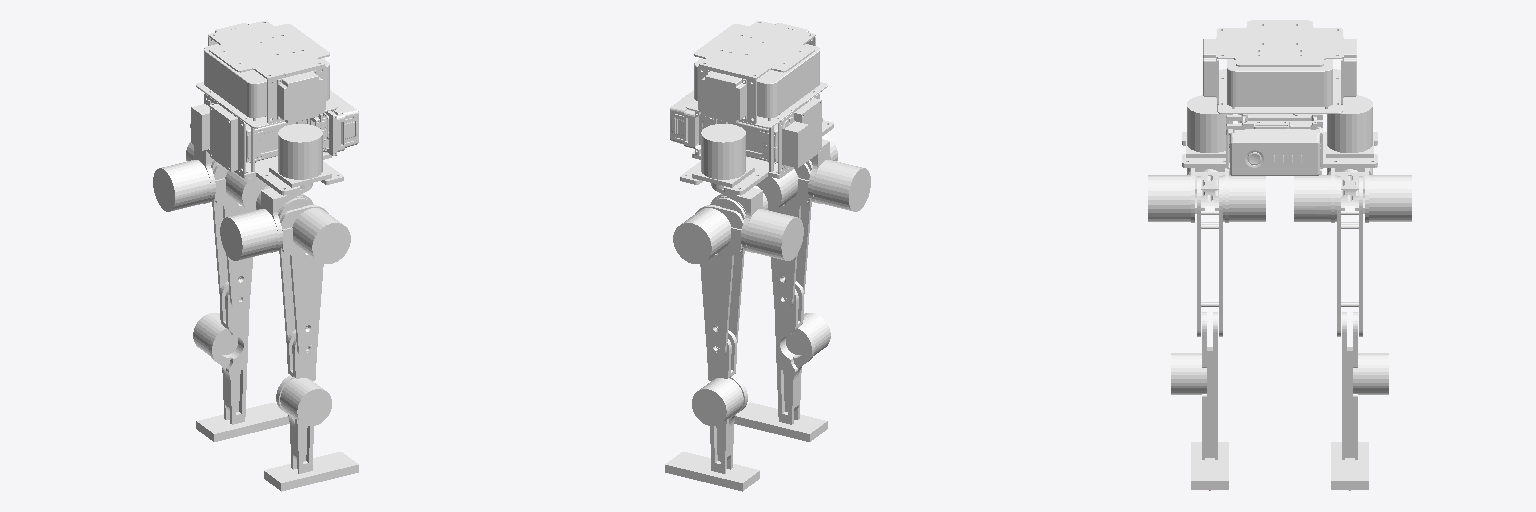
--- Facts derived from the render (not from the file) ---
The picture shows the robot from 3 angles, left to right: view 1: azimuth 30°, elevation 25°; view 2: azimuth 150°, elevation 25°; view 3: azimuth 270°, elevation 25°; orthographic projection.
Robot: pai_10dof_v3_0311 — 16 links, 15 joints (10 revolute, 5 fixed); root link base_link; default pose: every joint at zero.
Links seen in each view (by area): view 1: base_link, leg_l4_link, leg_r4_link, leg_r3_link, leg_r2_link, leg_l3_link, leg_r1_link, leg_l2_link, leg_r5_link, leg_l5_link, leg_l1_link; view 2: base_link, leg_r4_link, leg_l4_link, leg_l3_link, leg_l2_link, leg_r3_link, leg_l1_link, leg_r2_link, leg_l5_link, leg_r5_link, leg_r1_link; view 3: base_link, leg_l4_link, leg_r4_link, leg_l3_link, leg_r3_link, leg_l1_link, leg_r1_link, leg_l5_link, leg_r5_link.
Boxes of the visible links, x1,y1,x2,y2 form: base_link: (190, 21, 358, 195); leg_l4_link: (193, 281, 249, 424); leg_r4_link: (276, 330, 331, 473); leg_r3_link: (256, 186, 323, 357); leg_r2_link: (220, 183, 312, 260); leg_l3_link: (211, 160, 267, 308); leg_r1_link: (279, 194, 350, 263); leg_l2_link: (153, 145, 215, 211); leg_r5_link: (264, 452, 358, 491); leg_l5_link: (196, 402, 289, 441); leg_l1_link: (186, 142, 236, 205); base_link: (670, 21, 833, 195); leg_r4_link: (774, 281, 830, 424); leg_l4_link: (692, 330, 747, 473); leg_l3_link: (700, 186, 767, 357); leg_l2_link: (711, 183, 803, 260); leg_r3_link: (756, 160, 812, 308); leg_l1_link: (673, 194, 744, 263); leg_r2_link: (808, 139, 870, 211); leg_l5_link: (665, 452, 759, 491); leg_r5_link: (734, 402, 827, 441); leg_r1_link: (787, 134, 837, 205); base_link: (1182, 20, 1377, 175); leg_l4_link: (1342, 312, 1388, 459); leg_r4_link: (1171, 312, 1217, 459); leg_l3_link: (1294, 175, 1362, 336); leg_r3_link: (1197, 175, 1265, 336); leg_l1_link: (1331, 168, 1411, 222); leg_r1_link: (1148, 168, 1228, 222); leg_l5_link: (1331, 442, 1368, 489); leg_r5_link: (1191, 442, 1228, 489).
Size in the robot's own frame: 0.1781 by 0.2822 by 0.5012 metres.
Meshes: 9 distinct files referenced, 9 mesh visuals loaded (9 binary STL).

robot.urdf — pai_10dof_v3_0311:
<?xml version="1.0" encoding="utf-8"?>
<!--
This URDF was automatically created by SolidWorks to URDF Exporter! Originally created by Stephen Brawner ([email redacted])
Commit Version: 1.6.0-4-g7f85cfe  Build Version: 1.6.7995.38578
For more information, please see http://wiki.ros.org/sw_urdf_exporter
-->
<robot name="pai_10dof_v3_0311">
<mujoco>
  <compiler 
    meshdir="package://legged_hunter_description/meshes/" 
    balanceinertia="true" 
    discardvisual="false" />
</mujoco>

  <gazebo>
    <plugin name="gazebo_ros_control" filename="libhunter_bipedal_hw_sim.so">
      <robotNamespace>/</robotNamespace>
      <robotParam>legged_robot_description</robotParam>
      <robotSimType>legged_gazebo/LeggedHWSim</robotSimType>
    </plugin>
  </gazebo>

  <gazebo>
    <plugin filename="libgazebo_ros_p3d.so" name="p3d_base_controller">
      <alwaysOn>true</alwaysOn>
      <updateRate>500.0</updateRate>
      <bodyName>base_link</bodyName>
      <topicName>ground_truth/state</topicName>
      <gaussianNoise>0</gaussianNoise>
      <frameName>world</frameName>
      <xyzOffsets>0 0 0</xyzOffsets>
      <rpyOffsets>0 0 0</rpyOffsets>
    </plugin>
  </gazebo>

	<link name="base_link">
		<inertial>
			<origin xyz="0.0083901 -0.0011217 0.0571961" rpy="0 0 0" />
			<mass value="1.6042619" />
			<inertia ixx="0.0044403" ixy="0.0001368" ixz="0.0002994" iyy="0.0044715" iyz="-3.65E-05" izz="0.0042503" />
		</inertial>
		<visual>
			<origin xyz="0 0 0" rpy="0 0 0" />
			<geometry>
				<mesh filename="package://legged_hunter_description/meshes/base_link.STL" />
			</geometry>
			<material name="">
				<color rgba="1 1 1 1" />
			</material>
		</visual>
		<collision>
			<!-- <origin xyz="0 0 0" rpy="0 0 0" />
			<geometry>
				<mesh filename="package://legged_hunter_description/meshes/base_link.STL" />
			</geometry> -->
			<origin rpy="0 0 0" xyz="0 0 0.045" />
			<geometry>
				<box size="0.1 0.1 0.09" />
			</geometry>
		</collision>
	</link>
	
	<!-- Imu is fixed to the base link -->
    <joint name="imu_joint" type="fixed">
      <origin rpy="0. 0. 0." xyz="0. 0. 0"/>
      <parent link="base_link"/>
      <child link="imu_link"/>
    </joint>
    <!-- Imu link -->
    <link name="imu_link">
      <inertial>
        <mass value="0.01"/>
        <origin rpy="0 0 0" xyz="0 0 0"/>
        <inertia ixx="0.000001" ixy="0" ixz="0" iyy="0.000001" iyz="0" izz="0.000001"/>
      </inertial>
      <visual>
        <origin rpy="0 0 0" xyz="0 0 0"/>
        <geometry>
          <box size="0.015 0.015 0.004"/>
        </geometry>
      </visual>
      <material name="orange">
        <color rgba="255 108 10 255"/>
      </material>
    </link>
    <gazebo reference="imu_joint">
      <disableFixedJointLumping>true</disableFixedJointLumping>
    </gazebo>

  <!-- ************************************************************ -->
  <!-- ************************ Left Leg ************************** -->
  <!-- ************************************************************ -->

  <!-- ************* part 2 *************** -->
	<joint name="leg_l2_joint" type="revolute">
		<origin xyz="0 0.075 0" rpy="0 0 0" />
		<parent link="base_link" />
		<child link="leg_l2_link" />
		<axis xyz="0 0 1" />
		<limit lower="-3.14" upper="3.14" effort="21" velocity="21" />
	</joint>
	<link name="leg_l2_link">
		<inertial>
			<origin xyz="-0.0222049 0 -0.0213255" rpy="0 0 0" />
			<mass value="0.34" />
			<inertia ixx="4.37E-05" ixy="0" ixz="-2.14E-05" iyy="5.97E-05" iyz="0" izz="3.12E-05" />
		</inertial>
		<visual>
			<origin xyz="0 0 0" rpy="0 0 0" />
			<geometry>
				<mesh filename="package://legged_hunter_description/meshes/l_hip_yaw_link.STL" />
			</geometry>
			<material name="">
				<color rgba="1 1 1 1" />
			</material>
		</visual>
		<collision>
			<!-- <origin xyz="0 0 0" rpy="0 0 0" />
			<geometry>
				<mesh filename="package://legged_hunter_description/meshes/l_hip_yaw_link.STL" />
			</geometry> -->
			<origin xyz="0 0 0" rpy="0 0 0" />
			<geometry>
				<box size="0.0001 0.0001 0.0001" />
			</geometry>
		</collision>
	</link>



	<!-- ************* part 1 *************** -->
	<joint name="leg_l1_joint" type="revolute">
		<origin xyz="-0.037 0 -0.054" rpy="0 0 0" />
		<parent link="leg_l2_link" />
		<child link="leg_l1_link" />
		<axis xyz="1 0 0" />
		<limit lower="-3.14" upper="3.14" effort="21" velocity="21" />
	</joint>
	<link name="leg_l1_link">
		<inertial>
			<origin xyz="0.018445 0 -0.0030972" rpy="0 0 0" />
			<mass value="0.367" />
			<inertia ixx="4.04E-05" ixy="0" ixz="-1.5E-06" iyy="4.96E-05" iyz="0" izz="5.32E-05" />
		</inertial>
		<visual>
			<origin xyz="0 0 0" rpy="0 0 0" />
			<geometry>
				<mesh filename="package://legged_hunter_description/meshes/l_hip_roll_link.STL" />
			</geometry>
			<material name="">
				<color rgba="1 1 1 1" />
			</material>
		</visual>
		<collision>
			<!-- <origin xyz="0 0 0" rpy="0 0 0" />
			<geometry>
				<mesh filename="package://legged_hunter_description/meshes/l_hip_roll_link.STL" />
			</geometry> -->
			<origin rpy="0 0 0" xyz="0 0 0" />
			<geometry>
				<box size="0.0001 0.0001 0.0001" />
			</geometry>
		</collision>
	</link>


	<!-- ************* part 3 *************** -->
	<joint name="leg_l3_joint" type="revolute">
		<origin xyz="0.039 0 0" rpy="0 0 0" />
		<parent link="leg_l1_link" />
		<child link="leg_l3_link" />
		<axis xyz="0 -1 0" />
		<limit lower="-3.14" upper="3.14" effort="21" velocity="21" />
	</joint>
	<link name="leg_l3_link">
		<inertial>
			<origin xyz="0 0.0008496 -0.0657852" rpy="0 0 0" />
			<mass value="0.476" />
			<inertia ixx="0.0003309" ixy="0" ixz="0" iyy="0.0003287" iyz="-7.3E-06" izz="3.47E-05" />
		</inertial>
		<visual>
			<origin xyz="0 0 0" rpy="0 0 0" />
			<geometry>
				<mesh filename="package://legged_hunter_description/meshes/l_thigh_link.STL" />
			</geometry>
			<material name="">
				<color rgba="1 1 1 1" />
			</material>
		</visual>
		<collision>
			<!-- <origin xyz="0 0 0" rpy="0 0 0" />
			<geometry>
				<mesh filename="package://legged_hunter_description/meshes/l_thigh_link.STL" />
			</geometry> -->
			<origin xyz="0.00 0 -0.05" rpy="0 0 0" />
            <geometry>
                <box size="0.01 0.01 0.09" />
            </geometry>
		</collision>
	</link>


	<!-- ************* part 4 *************** -->
	<joint name="leg_l4_joint" type="revolute">
		<origin xyz="0 0 -0.15" rpy="0 0 0" />
		<parent link="leg_l3_link" />
		<child link="leg_l4_link" />
		<axis xyz="0 1 0" />
		<limit lower="-3.14" upper="3.14" effort="21" velocity="21" />
	</joint>
	<link name="leg_l4_link">
		<inertial>
			<origin xyz="-0.0045962 0.012568 -0.063722" rpy="0 0 0" />
			<mass value="0.361" />
			<inertia ixx="0.0004571" ixy="1.33E-05" ixz="5.7E-06" iyy="0.0004253" iyz="1.57E-05" izz="0.0001177" />
		</inertial>
		<visual>
			<origin xyz="0 0 0" rpy="0 0 0" />
			<geometry>
				<mesh filename="package://legged_hunter_description/meshes/l_calf_link.STL" />
			</geometry>
			<material name="">
				<color rgba="1 1 1 1" />
			</material>
		</visual>
		<collision>
			<!-- <origin xyz="0 0 0" rpy="0 0 0" />
			<geometry>
				<mesh filename="package://legged_hunter_description/meshes/l_calf_link.STL" />
			</geometry> -->
			<origin xyz="0.0 0.0 -0.05" rpy="0 0 0" />
			<geometry>
				<box size="0.01 0.01 0.09" />
			</geometry>
		</collision>
	</link>


	<!-- ************* part 5 *************** -->
	<joint name="leg_l5_joint" type="revolute">
		<origin xyz="0 0 -0.16" rpy="0 0 0" />
		<parent link="leg_l4_link" />
		<child link="leg_l5_link" />
		<axis xyz="0 -1 0" />
		<limit lower="-3.14" upper="3.14" effort="21" velocity="21" />
	</joint>
	<link name="leg_l5_link">
		<inertial>
			<origin xyz="0.0013494 0 -0.0128062" rpy="0 0 0" />
			<mass value="0.089" />
			<inertia ixx="4.3E-06" ixy="0" ixz="1.9E-06" iyy="4.33E-05" iyz="0" izz="4.18E-05" />
		</inertial>
		<visual>
			<!-- <origin xyz="0 0 0" rpy="0 0 0" />
			<geometry>
				<mesh filename="package://legged_hunter_description/meshes/l_toe_link.STL" />
			</geometry> -->
			<origin xyz="0.012 0.0 0.0" rpy="0 0 0" />
            <geometry>
                <box size="0.1 0.04 0.01" />
			</geometry>
			<material name="">
				<color rgba="1 1 1 1" />
			</material>
		</visual>
		<collision>
			<!-- <origin xyz="0 0 0" rpy="0 0 0" />
			<geometry>
				<mesh filename="package://legged_hunter_description/meshes/l_toe_link.STL" />
			</geometry> -->
			<origin xyz="0.012 0.0 0.0" rpy="0 0 0" />
            <geometry>
                <box size="0.1 0.04 0.01" />
            </geometry>
		</collision>
	</link>
  <joint name="leg_l5_fixed_1" type="fixed">
    <origin xyz="0.06 0 -0.007" rpy="0 0 0" />
    <parent link="leg_l5_link" />
    <child link="leg_l_f1_link" />
  </joint>
  <link name="leg_l_f1_link">
    <inertial>
      <mass value="0.01" />
      <inertia ixx="0.000001" ixy="0" ixz="0" iyy="0.000001" iyz="0" izz="0.000001" />
    </inertial>
    <visual>
      <origin rpy="0 0 0" xyz="0 0 0"/>
      <geometry>
        <sphere radius="0.001"/>
      </geometry>
    </visual>
    <collision>
      <origin rpy="0 0 0" xyz="0 0 0"/>
      <geometry>
        <sphere radius="0.001"/>
      </geometry>
    </collision>
  </link>

  <joint name="leg_l5_fixed_2" type="fixed">
    <origin xyz="-0.030 0 -0.007" rpy="0 0 0" />
    <parent link="leg_l5_link" />
    <child link="leg_l_f2_link" />
  </joint>
  <link name="leg_l_f2_link">
    <inertial>
      <mass value="0.01" />
      <inertia ixx="0.000001" ixy="0" ixz="0" iyy="0.000001" iyz="0" izz="0.000001" />
    </inertial>
    <visual>
      <origin rpy="0 0 0" xyz="0 0 0"/>
      <geometry>
        <sphere radius="0.001"/>
      </geometry>
    </visual>
    <collision>
      <origin rpy="0 0 0" xyz="-0 0 0"/>
      <geometry>
        <sphere radius="0.001"/>
      </geometry>
    </collision>
  </link>

  <gazebo reference="leg_l1_link">
    <mu1>0.6</mu1>
    <mu2>0.6</mu2>
    <self_collide>1</self_collide>
  </gazebo>
  <gazebo reference="leg_l2_link">
    <mu1>0.6</mu1>
    <mu2>0.6</mu2>
    <self_collide>1</self_collide>
  </gazebo>
  <gazebo reference="leg_l3_link">
    <mu1>0.6</mu1>
    <mu2>0.6</mu2>
    <self_collide>1</self_collide>
  </gazebo>
  <gazebo reference="leg_l4_link">
    <mu1>0.6</mu1>
    <mu2>0.6</mu2>
    <self_collide>1</self_collide>
  </gazebo>
  <gazebo reference="leg_l5_link">
    <mu1>1.5</mu1>
    <mu2>1.5</mu2>
    <self_collide>1</self_collide>
    <kp value="1000000.0"/>
    <kd value="100.0"/>
    <maxVel>1.0</maxVel>
    <minDepth>0.00</minDepth>
  </gazebo>
  <gazebo reference="leg_l_f1_link">
    <mu1>1.5</mu1>
    <mu2>1.5</mu2>
    <self_collide>1</self_collide>
    <kp value="1000000.0"/>
    <kd value="100.0"/>
    <maxVel>1.0</maxVel>
    <minDepth>0.00</minDepth>
  </gazebo>
  <gazebo reference="leg_l_f2_link">
    <mu1>1.5</mu1>
    <mu2>1.5</mu2>
    <self_collide>1</self_collide>
    <kp value="1000000.0"/>
    <kd value="100.0"/>
    <maxVel>1.0</maxVel>
    <minDepth>0.00</minDepth>
  </gazebo>

  <transmission name="leg_l1_tran">
    <type>transmission_interface/SimpleTransmission</type>
    <joint name="leg_l1_joint">
      <hardwareInterface>hardware_interface/EffortJointInterface</hardwareInterface>
    </joint>
    <actuator name="leg_l1_motor">
      <hardwareInterface>hardware_interface/EffortJointInterface</hardwareInterface>
      <mechanicalReduction>1</mechanicalReduction>
    <maxVelocity>1.484</maxVelocity><!-- 85rpm -->
	  <maxEffort>36.0</maxEffort><!-- 36Nm -->
    </actuator>
  </transmission>

  <transmission name="leg_l2_tran">
    <type>transmission_interface/SimpleTransmission</type>
    <joint name="leg_l2_joint">
      <hardwareInterface>hardware_interface/EffortJointInterface</hardwareInterface>
    </joint>
    <actuator name="leg_l2_motor">
      <hardwareInterface>hardware_interface/EffortJointInterface</hardwareInterface>
      <mechanicalReduction>1</mechanicalReduction>
    <maxVelocity>2.6545</maxVelocity><!-- 160rpm -->
	  <maxEffort>94.0</maxEffort><!-- 94Nm -->
    </actuator>
  </transmission>

  <transmission name="leg_l3_tran">
    <type>transmission_interface/SimpleTransmission</type>
    <joint name="leg_l3_joint">
      <hardwareInterface>hardware_interface/EffortJointInterface</hardwareInterface>
    </joint>
    <actuator name="leg_l3_motor">
      <hardwareInterface>hardware_interface/EffortJointInterface</hardwareInterface>
      <mechanicalReduction>1</mechanicalReduction>
    <maxVelocity>2.6545</maxVelocity><!-- 160rpm -->
	  <maxEffort>94.0</maxEffort><!-- 94Nm -->
    </actuator>
  </transmission>

  <transmission name="leg_l4_tran">
    <type>transmission_interface/SimpleTransmission</type>
    <joint name="leg_l4_joint">
      <hardwareInterface>hardware_interface/EffortJointInterface</hardwareInterface>
    </joint>
    <actuator name="leg_l4_motor">
      <hardwareInterface>hardware_interface/EffortJointInterface</hardwareInterface>
      <mechanicalReduction>1</mechanicalReduction>
    <maxVelocity>1.484</maxVelocity><!-- 85rpm -->
	<maxEffort>36.0</maxEffort><!-- 36Nm -->
    </actuator>
  </transmission>

  <transmission name="leg_l5_tran">
    <type>transmission_interface/SimpleTransmission</type>
    <joint name="leg_l5_joint">
      <hardwareInterface>hardware_interface/EffortJointInterface</hardwareInterface>
    </joint>
    <actuator name="leg_l5_motor">
      <hardwareInterface>hardware_interface/EffortJointInterface</hardwareInterface>
      <mechanicalReduction>1</mechanicalReduction>
    </actuator>
  </transmission>
  <!-- ************************************************************ -->
  <!-- ************************ Right Leg ************************** -->
  <!-- ************************************************************ -->
	
  <!-- ************* part 2 *************** -->
	<joint name="leg_r2_joint" type="revolute">
		<origin xyz="0 -0.075 0" rpy="0 0 0" />
		<parent link="base_link" />
		<child link="leg_r2_link" />
		<axis xyz="0 0 1" />
		<limit lower="-3.14" upper="3.14" effort="21" velocity="21" />
	</joint>
	<link name="leg_r2_link">
		<inertial>
			<origin xyz="-0.0222049 0 -0.0213255" rpy="0 0 0" />
			<mass value="0.34" />
			<inertia ixx="4.37E-05" ixy="0" ixz="-2.14E-05" iyy="5.97E-05" iyz="0" izz="3.12E-05" />
		</inertial>
		<visual>
			<origin xyz="0 0 0" rpy="0 0 0" />
			<geometry>
				<mesh filename="package://legged_hunter_description/meshes/r_hip_yaw_link.STL" />
			</geometry>
			<material name="">
				<color rgba="1 1 1 1" />
			</material>
		</visual>
		<collision>
			<!-- <origin xyz="0 0 0" rpy="0 0 0" />
			<geometry>
				<mesh filename="package://legged_hunter_description/meshes/r_hip_yaw_link.STL" />
			</geometry> -->
			<origin xyz="0 0 0" rpy="0 0 0" />
			<geometry>
				<box size="0.0001 0.0001 0.0001" />
			</geometry>
		</collision>
	</link>

  <!-- ************* part 1 *************** -->
	<joint name="leg_r1_joint" type="revolute">
		<origin xyz="-0.037 0 -0.054" rpy="0 0 0" />
		<parent link="leg_r2_link" />
		<child link="leg_r1_link" />
		<axis xyz="1 0 0" />
		<limit lower="-3.14" upper="3.14" effort="21" velocity="21" />
	</joint>
	<link name="leg_r1_link">
		<inertial>
			<origin xyz="0.018445 0 -0.0030972" rpy="0 0 0" />
			<mass value="0.367" />
			<inertia ixx="4.04E-05" ixy="0" ixz="-1.5E-06" iyy="4.96E-05" iyz="0" izz="5.32E-05" />
		</inertial>
		<visual>
			<origin xyz="0 0 0" rpy="0 0 0" />
			<geometry>
				<mesh filename="package://legged_hunter_description/meshes/r_hip_roll_link.STL" />
			</geometry>
			<material name="">
				<color rgba="1 1 1 1" />
			</material>
		</visual>
		<collision>
			<!-- <origin xyz="0 0 0" rpy="0 0 0" />
			<geometry>
				<mesh filename="package://legged_hunter_description/meshes/r_hip_roll_link.STL" />
			</geometry> -->
			<origin xyz="0 0 0" rpy="0 0 0" />
			<geometry>
				<box size="0.0001 0.0001 0.0001" />
			</geometry>
		</collision>
	</link>

  <!-- ************* part 3 *************** -->
	<joint name="leg_r3_joint" type="revolute">
		<origin xyz="0.039 0 0" rpy="0 0 0" />
		<parent link="leg_r1_link" />
		<child link="leg_r3_link" />
		<axis xyz="0 1 0" />
		<limit lower="-3.14" upper="3.14" effort="21" velocity="21" />
	</joint>
	<link name="leg_r3_link">
		<inertial>
			<origin xyz="0 -0.0008496 -0.0657852" rpy="0 0 0" />
			<mass value="0.476" />
			<inertia ixx="0.0003309" ixy="0" ixz="0" iyy="0.0003287" iyz="-7.3E-06" izz="3.47E-05" />
		</inertial>
		<visual>
			<origin xyz="0 0 0" rpy="0 0 0" />
			<geometry>
				<mesh filename="package://legged_hunter_description/meshes/r_thigh_link.STL" />
			</geometry>
			<material name="">
				<color rgba="1 1 1 1" />
			</material>
		</visual>
		<collision>
			<!-- <origin xyz="0 0 0" rpy="0 0 0" />
			<geometry>
				<mesh filename="package://legged_hunter_description/meshes/r_thigh_link.STL" />
			</geometry> -->
			<origin xyz="0.0 0 -0.05" rpy="0 0 0" />
			<geometry>
				<box size="0.01 0.01 0.09" />
			</geometry>
		</collision>
	</link>

  <!-- ************* part 4 *************** -->
	<joint name="leg_r4_joint" type="revolute">
		<origin xyz="0 0 -0.15" rpy="0 0 0" />
		<parent link="leg_r3_link" />
		<child link="leg_r4_link" />
		<axis xyz="0 1 0" />
		<limit lower="-3.14" upper="3.14" effort="21" velocity="21" />
	</joint>
	<link name="leg_r4_link">
		<inertial>
			<origin xyz="-0.0045962 -0.0125678 -0.0637218" rpy="0 0 0" />
			<mass value="0.361" />
			<inertia ixx="0.0004571" ixy="-1.33E-05" ixz="5.7E-06" iyy="0.0004253" iyz="1.57E-05" izz="0.0001177" />
		</inertial>
		<visual>
			<origin xyz="0 0 0" rpy="0 0 0" />
			<geometry>
				<mesh filename="package://legged_hunter_description/meshes/r_calf_link.STL" />
			</geometry>
			<material name="">
				<color rgba="1 1 1 1" />
			</material>
		</visual>
		<collision>
			<!-- <origin xyz="0 0 0" rpy="0 0 0" />
			<geometry>
				<mesh filename="package://legged_hunter_description/meshes/r_calf_link.STL" />
			</geometry> -->
			<origin xyz="0.00 0.0 -0.05" rpy="0 0 0" />
			<geometry>
				<box size="0.01 0.01 0.09" />
			</geometry>
		</collision>
	</link>

  <!-- ************* part 5 *************** -->
	<joint name="leg_r5_joint" type="revolute">
		<origin xyz="0 0 -0.16" rpy="0 0 0" />
		<parent link="leg_r4_link" />
		<child link="leg_r5_link" />
		<axis xyz="0 1 0" />
		<limit lower="-3.14" upper="3.14" effort="21" velocity="21" />
	</joint>
	<link name="leg_r5_link">
		<inertial>
			<origin xyz="0.0013494 0 -0.0128062" rpy="0 0 0" />
			<mass value="0.089" />
			<inertia ixx="4.3E-06" ixy="0" ixz="1.9E-06" iyy="4.33E-05" iyz="0" izz="4.18E-05" />
		</inertial>
		<visual>
			<!-- <origin xyz="0 0 0" rpy="0 0 0" />
			<geometry>
				<mesh filename="package://legged_hunter_description/meshes/r_toe_link.STL" />
			</geometry> -->
			<origin xyz="0.012 0.0 0.0" rpy="0 0 0" />
			<geometry>
				<box size="0.1 0.04 0.01" />
			</geometry>
			<material name="">
				<color rgba="1 1 1 1" />
			</material>
		</visual>
		<collision>
			<!-- <origin xyz="0 0 0" rpy="0 0 0" />
			<geometry>
				<mesh filename="package://legged_hunter_description/meshes/r_toe_link.STL" />
			</geometry> -->
			<origin xyz="0.012 0.0 0.0" rpy="0 0 0" />
			<geometry>
				<box size="0.1 0.04 0.01" />
			</geometry>
		</collision>
	</link>
<joint name="leg_r5_fixed_1" type="fixed">
    <origin xyz="0.06 0 -0.007" rpy="0 0 0" />
    <parent link="leg_r5_link" />
    <child link="leg_r_f1_link" />
  </joint>
  <link name="leg_r_f1_link">
    <inertial>
      <mass value="0.01" />
      <inertia ixx="0.000001" ixy="0" ixz="0" iyy="0.000001" iyz="0" izz="0.000001" />
    </inertial>
    <visual>
      <origin rpy="0 0 0" xyz="0 0 0"/>
      <geometry>
        <sphere radius="0.001"/>
      </geometry>
    </visual>
    <collision>
      <origin rpy="0 0 0" xyz="0 0 0"/>
      <geometry>
        <sphere radius="0.001"/>
      </geometry>
    </collision>
  </link>

  <joint name="leg_r5_fixed_2" type="fixed">
    <origin xyz="-0.030 0 -0.007" rpy="0 0 0" />
    <parent link="leg_r5_link" />
    <child link="leg_r_f2_link" />
  </joint>
  <link name="leg_r_f2_link">
    <inertial>
      <mass value="0.01" />
      <inertia ixx="0.000001" ixy="0" ixz="0" iyy="0.000001" iyz="0" izz="0.000001" />
    </inertial>
    <visual>
      <origin rpy="0 0 0" xyz="0 0 0"/>
      <geometry>
        <sphere radius="0.001"/>
      </geometry>
    </visual>
    <collision>
      <origin rpy="0 0 0" xyz="0 0 0"/>
      <geometry>
        <sphere radius="0.001"/>
      </geometry>
    </collision>
  </link>

  <gazebo reference="leg_r1_link">
    <mu1>0.6</mu1>
    <mu2>0.6</mu2>
    <self_collide>1</self_collide>
  </gazebo>
  <gazebo reference="leg_r2_link">
    <mu1>0.6</mu1>
    <mu2>0.6</mu2>
    <self_collide>1</self_collide>
  </gazebo>
  <gazebo reference="leg_r3_link">
    <mu1>0.6</mu1>
    <mu2>0.6</mu2>
    <self_collide>1</self_collide>
  </gazebo>
  <gazebo reference="leg_r4_link">
    <mu1>0.6</mu1>
    <mu2>0.6</mu2>
    <self_collide>1</self_collide>
  </gazebo>
  <gazebo reference="leg_r5_link">
    <mu1>1.5</mu1>
    <mu2>1.5</mu2>
    <self_collide>1</self_collide>
    <kp value="1000000.0"/>
    <kd value="100.0"/>
    <maxVel>1.0</maxVel>
    <minDepth>0.00</minDepth>
  </gazebo>
  <gazebo reference="leg_r_f1_link">
    <mu1>1.5</mu1>
    <mu2>1.5</mu2>
    <self_collide>1</self_collide>
    <kp value="1000000.0"/>
    <kd value="100.0"/>
    <maxVel>1.0</maxVel>
    <minDepth>0.00</minDepth>
  </gazebo>
  <gazebo reference="leg_r_f2_link">
    <mu1>1.5</mu1>
    <mu2>1.5</mu2>
    <self_collide>1</self_collide>
    <kp value="1000000.0"/>
    <kd value="100.0"/>
    <maxVel>1.0</maxVel>
    <minDepth>0.00</minDepth>
  </gazebo>

  <transmission name="leg_r1_tran">
    <type>transmission_interface/SimpleTransmission</type>
    <joint name="leg_r1_joint">
      <hardwareInterface>hardware_interface/EffortJointInterface</hardwareInterface>
    </joint>
    <actuator name="leg_r1_motor">
      <hardwareInterface>hardware_interface/EffortJointInterface</hardwareInterface>
      <mechanicalReduction>1</mechanicalReduction>
      	  <maxVelocity>1.484</maxVelocity><!-- 85rpm -->
	<maxEffort>36.0</maxEffort><!-- 36Nm -->
    </actuator>
  </transmission>

  <transmission name="leg_r2_tran">
    <type>transmission_interface/SimpleTransmission</type>
    <joint name="leg_r2_joint">
      <hardwareInterface>hardware_interface/EffortJointInterface</hardwareInterface>
    </joint>
    <actuator name="leg_r2_motor">
      <hardwareInterface>hardware_interface/EffortJointInterface</hardwareInterface>
      <mechanicalReduction>1</mechanicalReduction>
      	  <maxVelocity>2.6545</maxVelocity><!-- 160rpm -->
	  <maxEffort>94.0</maxEffort><!-- 94Nm -->
    </actuator>
  </transmission>

  <transmission name="leg_r3_tran">
    <type>transmission_interface/SimpleTransmission</type>
    <joint name="leg_r3_joint">
      <hardwareInterface>hardware_interface/EffortJointInterface</hardwareInterface>
    </joint>
    <actuator name="leg_r3_motor">
      <hardwareInterface>hardware_interface/EffortJointInterface</hardwareInterface>
      <mechanicalReduction>1</mechanicalReduction>
      	  <maxVelocity>2.6545</maxVelocity><!-- 160rpm -->
	  <maxEffort>94.0</maxEffort><!-- 94Nm -->
    </actuator>
  </transmission>

  <transmission name="leg_r4_tran">
    <type>transmission_interface/SimpleTransmission</type>
    <joint name="leg_r4_joint">
      <hardwareInterface>hardware_interface/EffortJointInterface</hardwareInterface>
    </joint>
    <actuator name="leg_r4_motor">
      <hardwareInterface>hardware_interface/EffortJointInterface</hardwareInterface>
      <mechanicalReduction>1</mechanicalReduction>
      	  <maxVelocity>1.484</maxVelocity><!-- 85rpm -->
	<maxEffort>36.0</maxEffort><!-- 36Nm -->
    </actuator>
  </transmission>

  <transmission name="leg_r5_tran">
    <type>transmission_interface/SimpleTransmission</type>
    <joint name="leg_r5_joint">
      <hardwareInterface>hardware_interface/EffortJointInterface</hardwareInterface>
    </joint>
    <actuator name="leg_r5_motor">
      <hardwareInterface>hardware_interface/EffortJointInterface</hardwareInterface>
      <mechanicalReduction>1</mechanicalReduction>
    </actuator>
  </transmission>
</robot>
